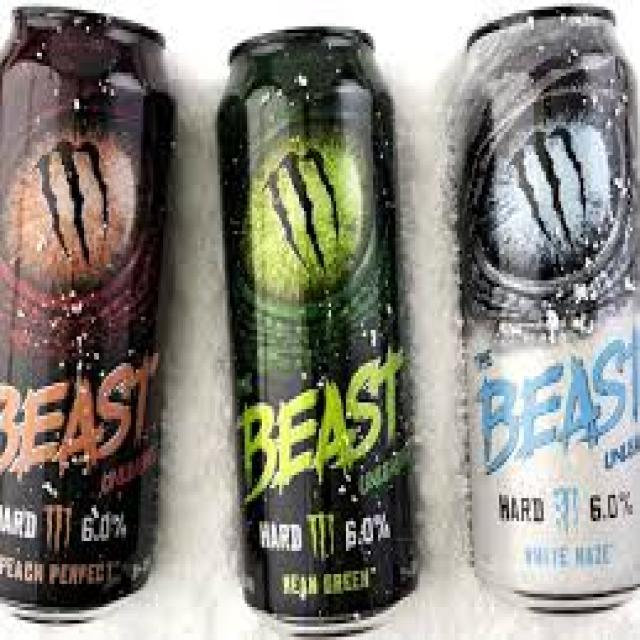Cans: (208, 26, 422, 634), (445, 3, 640, 620), (2, 4, 180, 624)
